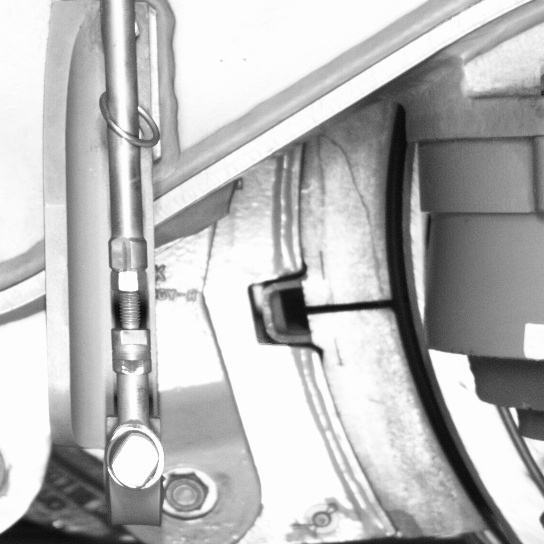KnifeSwitch: (311, 138, 523, 541)
